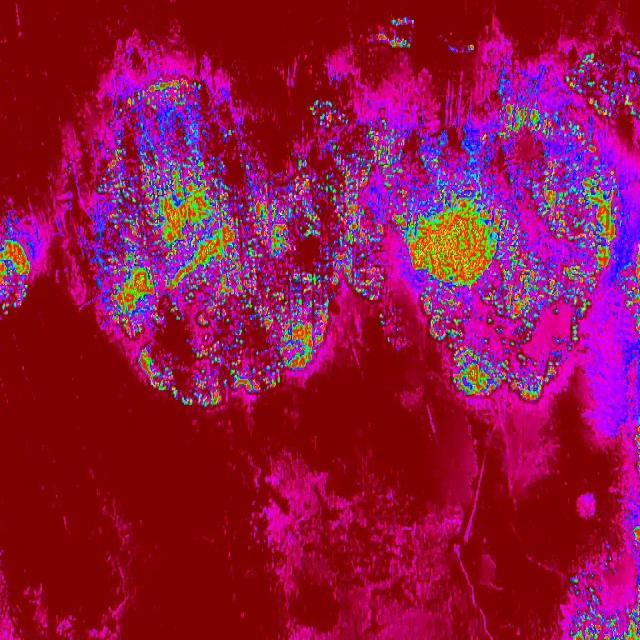fire: (407, 102, 640, 408), (94, 72, 244, 406), (310, 91, 406, 356), (245, 152, 320, 396), (499, 52, 640, 102), (566, 549, 640, 640), (0, 212, 43, 319), (378, 16, 420, 54), (636, 410, 640, 550)
